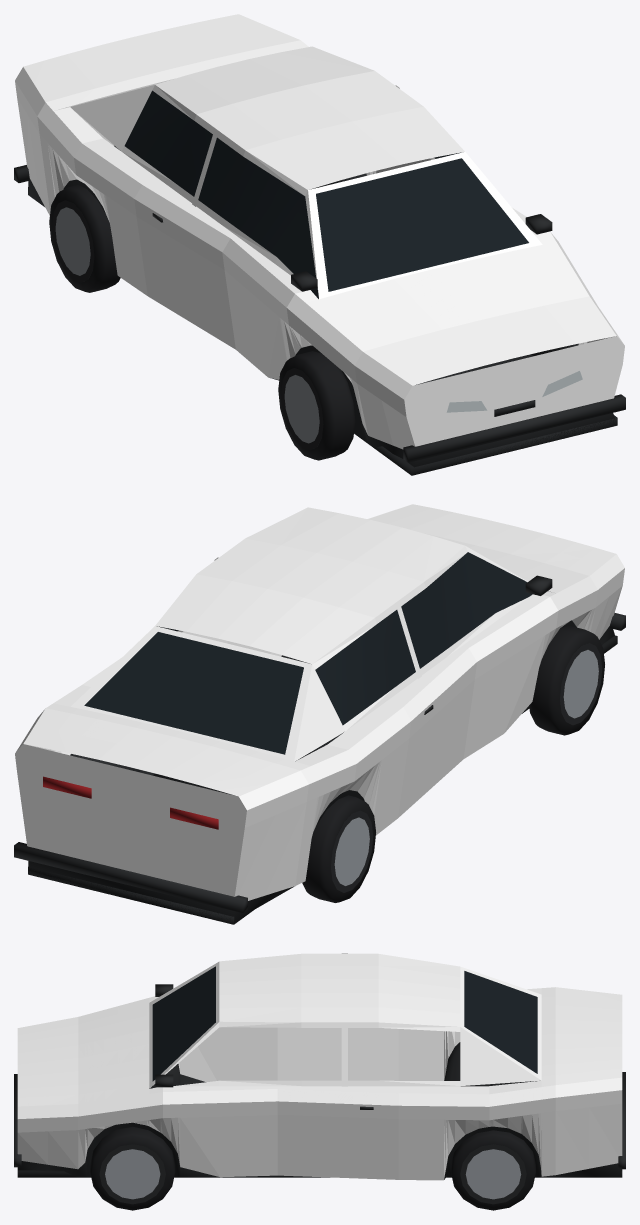
The model's file is bancroft_vela.glb.
3 renders of one model, top to bottom at view 1: azimuth 30°, elevation 25°; view 2: azimuth 150°, elevation 25°; view 3: azimuth 270°, elevation 25°, orthographic. The views are drawn at different scales.
Visible parts, largest first — view 1: Body_Paint, Body_Details, Mount_FrontLeft_Wheel_Details, Mount_RearLeft_Wheel_Details; view 2: Body_Paint, Body_Details, Mount_FrontLeft_Wheel_Details, Mount_RearLeft_Wheel_Details; view 3: Body_Paint, Body_Details, Mount_FrontRight_Wheel_Details, Mount_RearRight_Wheel_Details.
Boxes of the visible parts, <box> form: Body_Paint: <box>15,14,624,449</box>; Body_Details: <box>14,90,625,475</box>; Mount_FrontLeft_Wheel_Details: <box>278,351,355,460</box>; Mount_RearLeft_Wheel_Details: <box>49,185,120,292</box>; Body_Paint: <box>15,504,624,900</box>; Body_Details: <box>14,552,625,924</box>; Mount_FrontLeft_Wheel_Details: <box>529,625,604,735</box>; Mount_RearLeft_Wheel_Details: <box>302,795,375,902</box>; Body_Paint: <box>17,953,622,1180</box>; Body_Details: <box>14,966,625,1179</box>; Mount_FrontRight_Wheel_Details: <box>90,1126,175,1210</box>; Mount_RearRight_Wheel_Details: <box>450,1130,535,1210</box>.
Bounding box in the file's own units: 1.87 × 1.39 × 4.45.
Materials: 2 (1 with a texture image).
